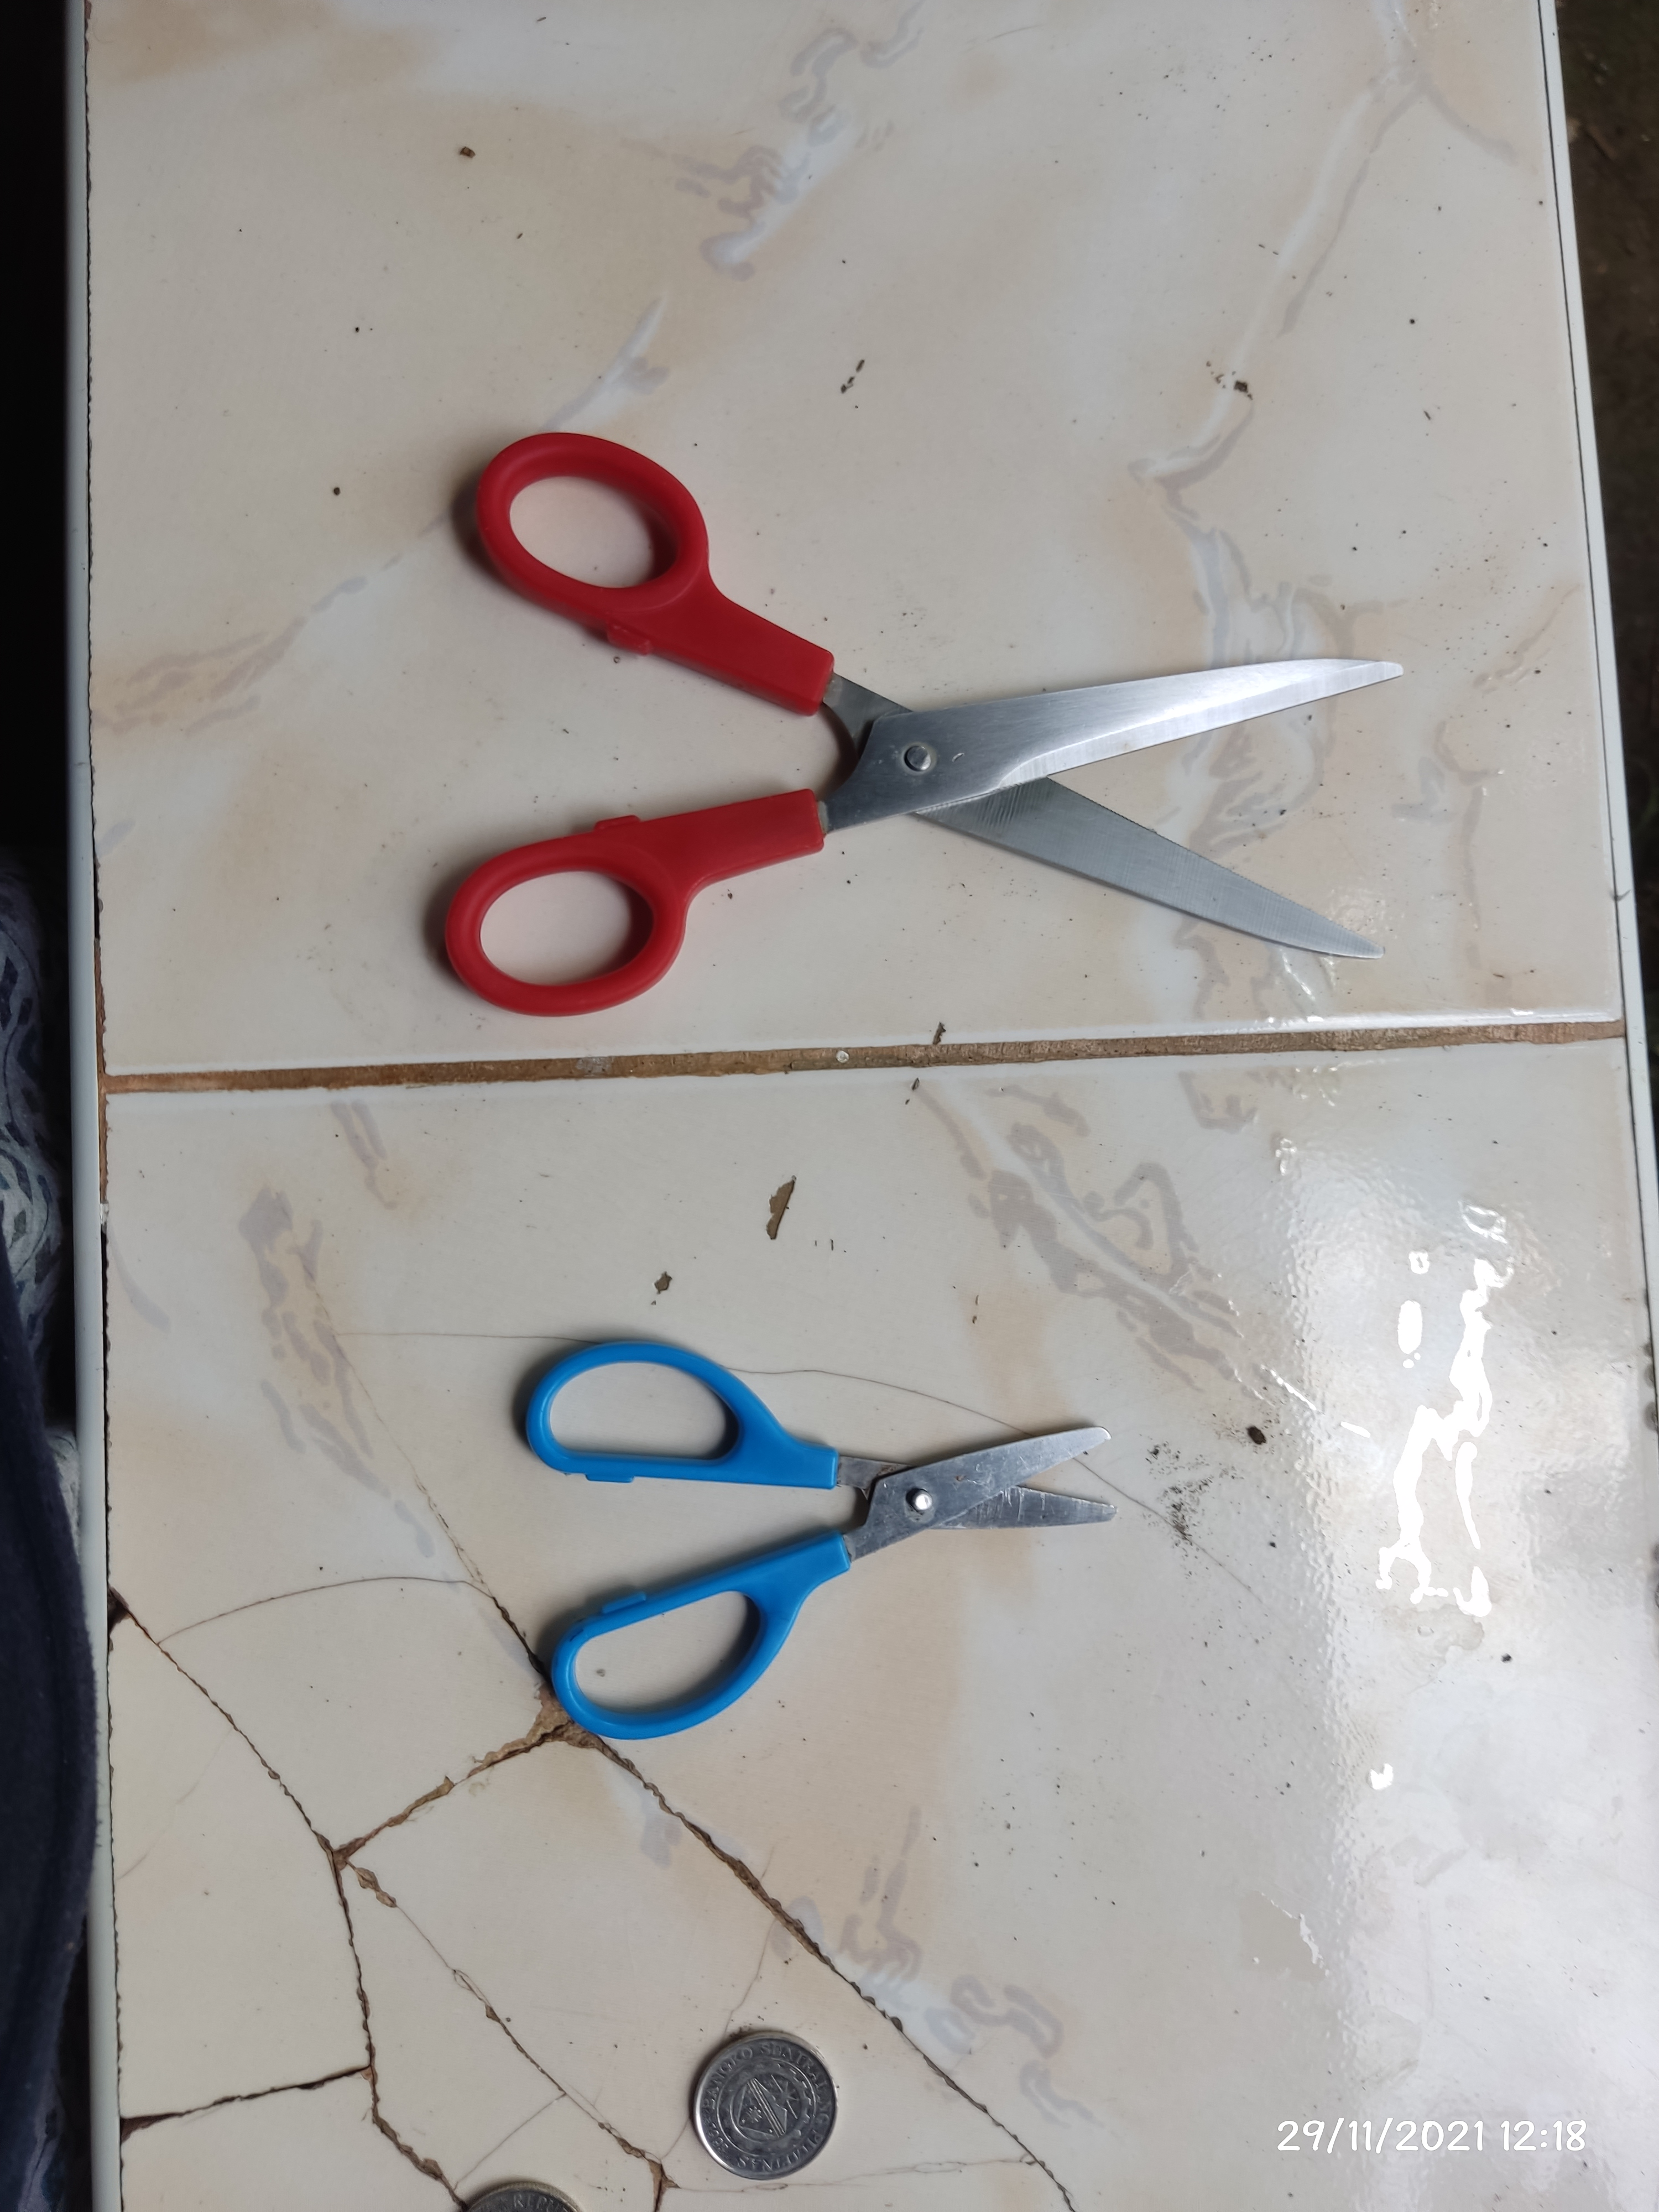scissor: (429, 442, 1408, 998), (523, 1339, 1108, 1740)
